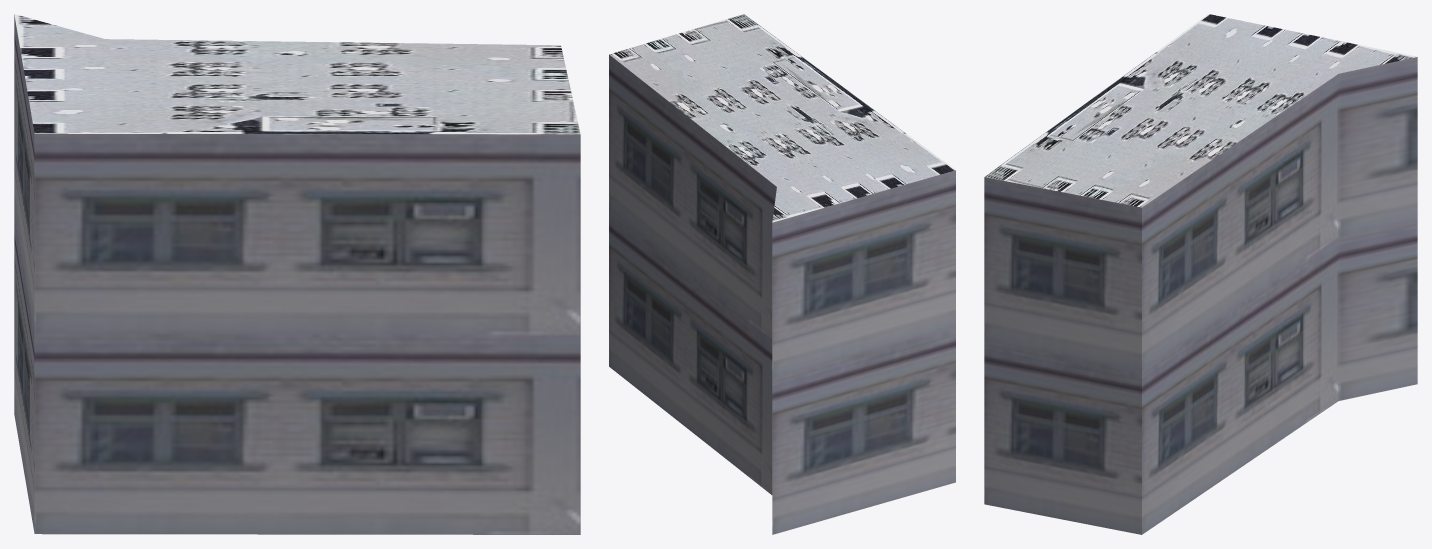
The model's file is ResTex__5172.fbx.
The picture shows the model from 3 angles, left to right: view 1: azimuth 30°, elevation 25°; view 2: azimuth 150°, elevation 25°; view 3: azimuth 270°, elevation 25°; orthographic projection. The views are drawn at different scales.
Parts seen in each view (by area): view 1: CityEngineMaterial_1_m, CityEngineMaterial_8_m; view 2: CityEngineMaterial_1_m, CityEngineMaterial_8_m; view 3: CityEngineMaterial_1_m, CityEngineMaterial_8_m.
Part boxes in pixels (x1,y1,x2,y2): CityEngineMaterial_1_m: (14,15,580,534); CityEngineMaterial_8_m: (14,14,580,134); CityEngineMaterial_1_m: (609,54,955,534); CityEngineMaterial_8_m: (609,14,955,222); CityEngineMaterial_1_m: (984,57,1417,534); CityEngineMaterial_8_m: (985,14,1416,207).
Size of the model in its own units: 7.61 by 6 by 7.2.
2 materials, 2 textured.
